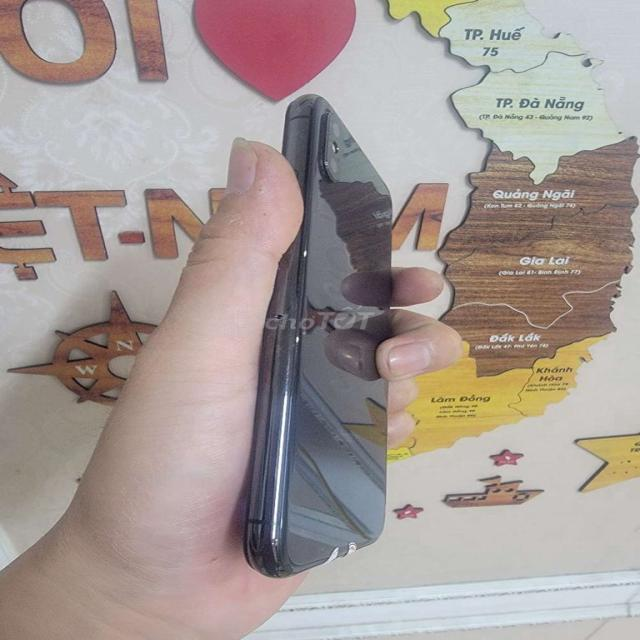gen_x_xs: (244, 95, 392, 578)
